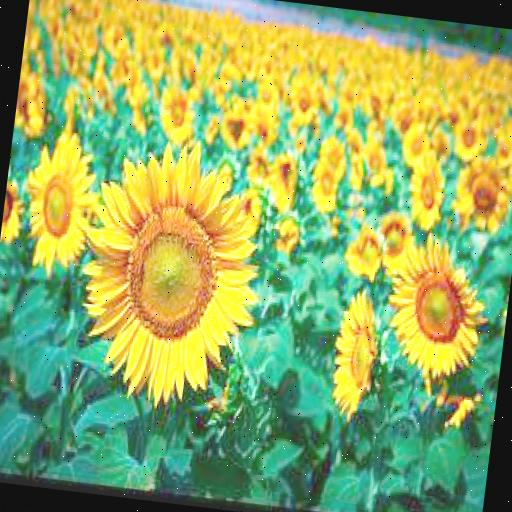sunflower: (69, 134, 275, 412), (384, 230, 492, 384), (16, 128, 104, 270), (329, 292, 383, 414), (451, 155, 512, 239), (406, 146, 446, 232), (158, 88, 196, 140), (346, 224, 382, 278), (267, 152, 299, 211), (310, 162, 340, 212)
